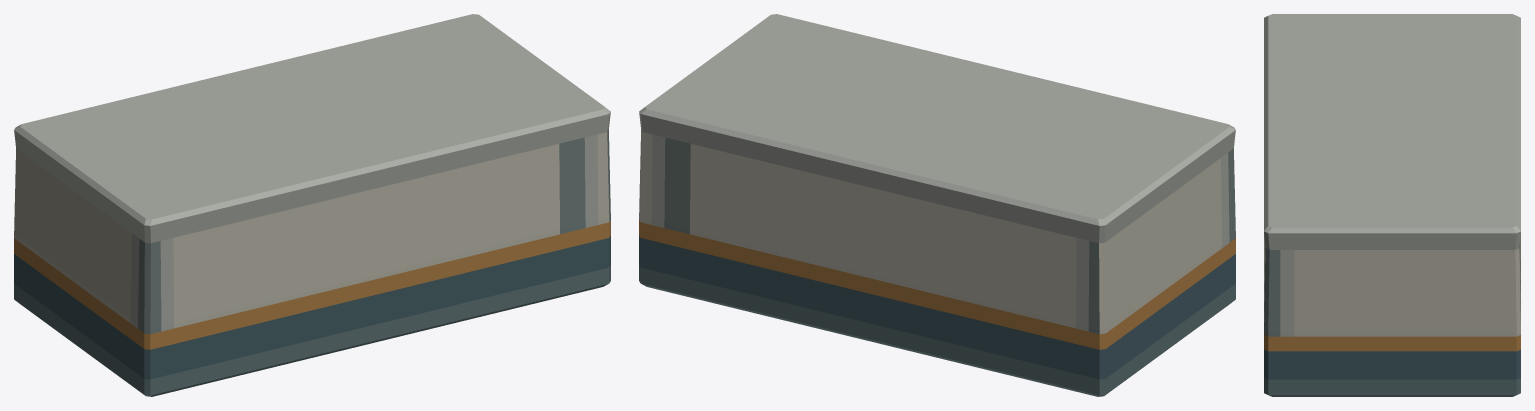
Rendered from low-cover-site.glb.
3 renders of one model, left to right at view 1: azimuth 30°, elevation 25°; view 2: azimuth 150°, elevation 25°; view 3: azimuth 270°, elevation 25°, orthographic. The views are drawn at different scales.
Visible parts, largest first — view 1: low-cover-site-export; view 2: low-cover-site-export; view 3: low-cover-site-export.
Part boxes in pixels (x1,y1,x2,y2): low-cover-site-export: (14,14,610,396); low-cover-site-export: (639,14,1235,396); low-cover-site-export: (1264,14,1520,396).
Size of the model in its own units: 2.2 by 0.8 by 1.1.
